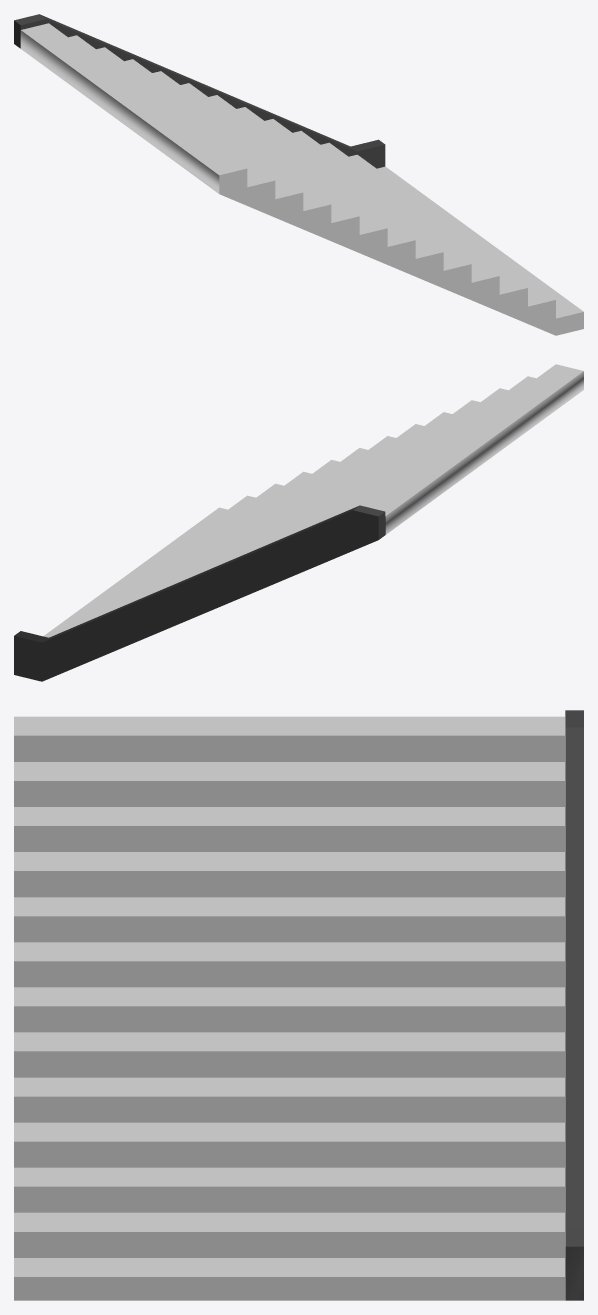
The model's file is School_Stair.fbx.
3 renders of one model, top to bottom at view 1: azimuth 30°, elevation 25°; view 2: azimuth 150°, elevation 25°; view 3: azimuth 270°, elevation 25°, orthographic. The views are drawn at different scales.
Visible parts, largest first — view 1: Kinder3_Stair; view 2: Kinder3_Stair; view 3: Kinder3_Stair.
Part boxes in pixels (x1,y1,x2,y2): Kinder3_Stair: (14, 14, 583, 335); Kinder3_Stair: (14, 364, 583, 681); Kinder3_Stair: (14, 710, 583, 1300).
Bounding box in the file's own units: 236 × 153 × 230.
